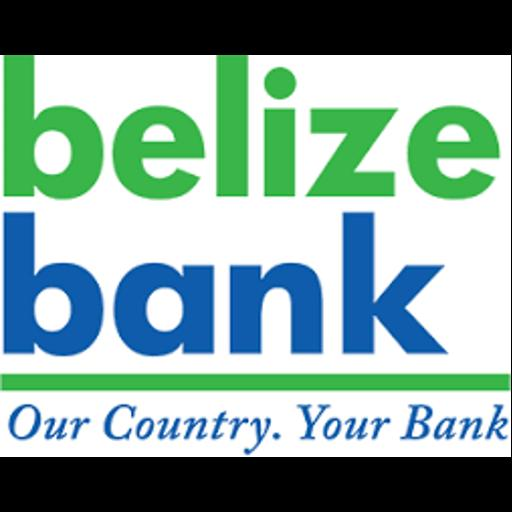Belize Bank: (0, 55, 511, 457)
